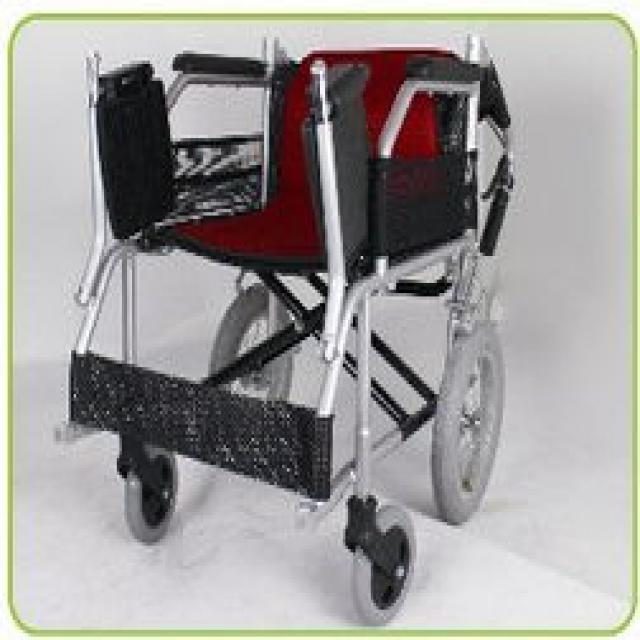wheelchairs: (74, 40, 512, 613)
